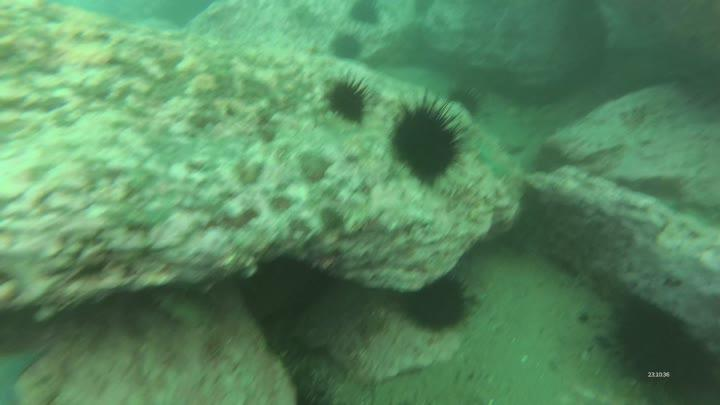urchin: (612, 299, 697, 391), (391, 97, 462, 182), (394, 273, 471, 335), (327, 81, 372, 122), (328, 31, 364, 66), (350, 1, 384, 28)
